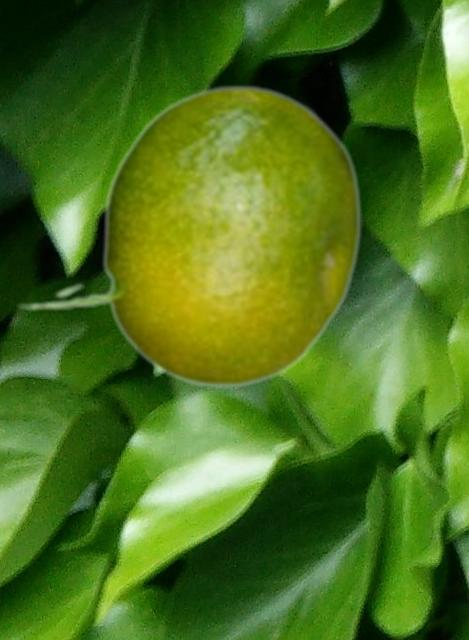calamansi: (16, 83, 361, 387)
